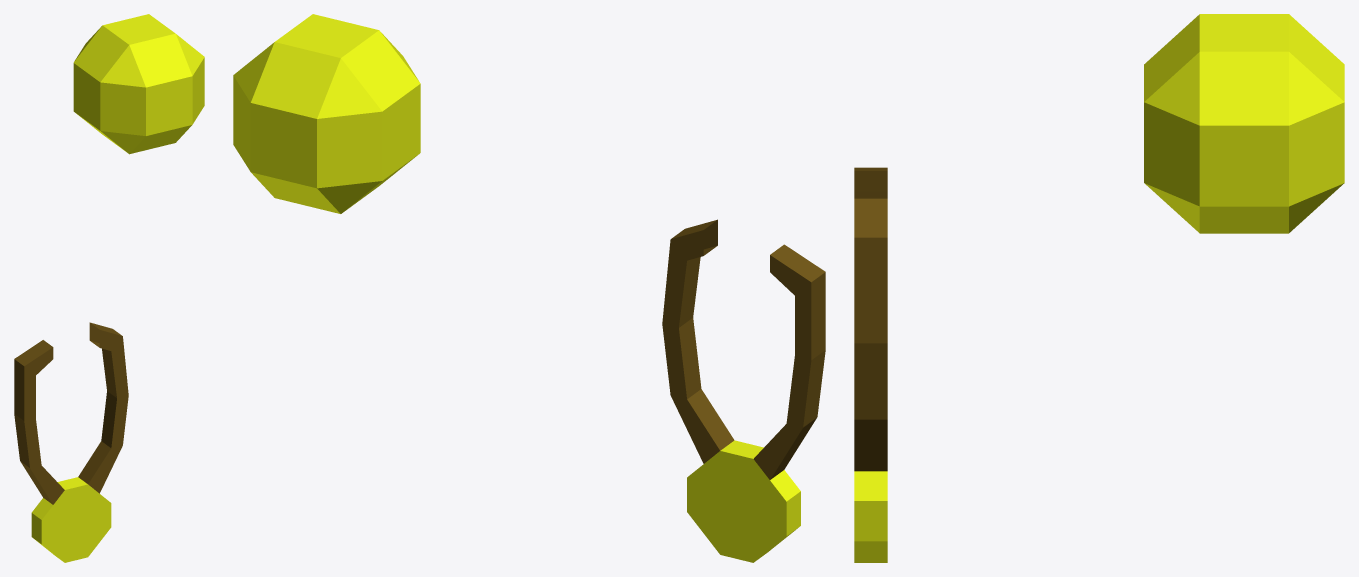
Rendered from gfx_116.obj.
3 renders of one model, left to right at view 1: azimuth 30°, elevation 25°; view 2: azimuth 150°, elevation 25°; view 3: azimuth 270°, elevation 25°, orthographic. The views are drawn at different scales.
Size of the model in its own units: 0.3828 by 0.5156 by 0.3438.
